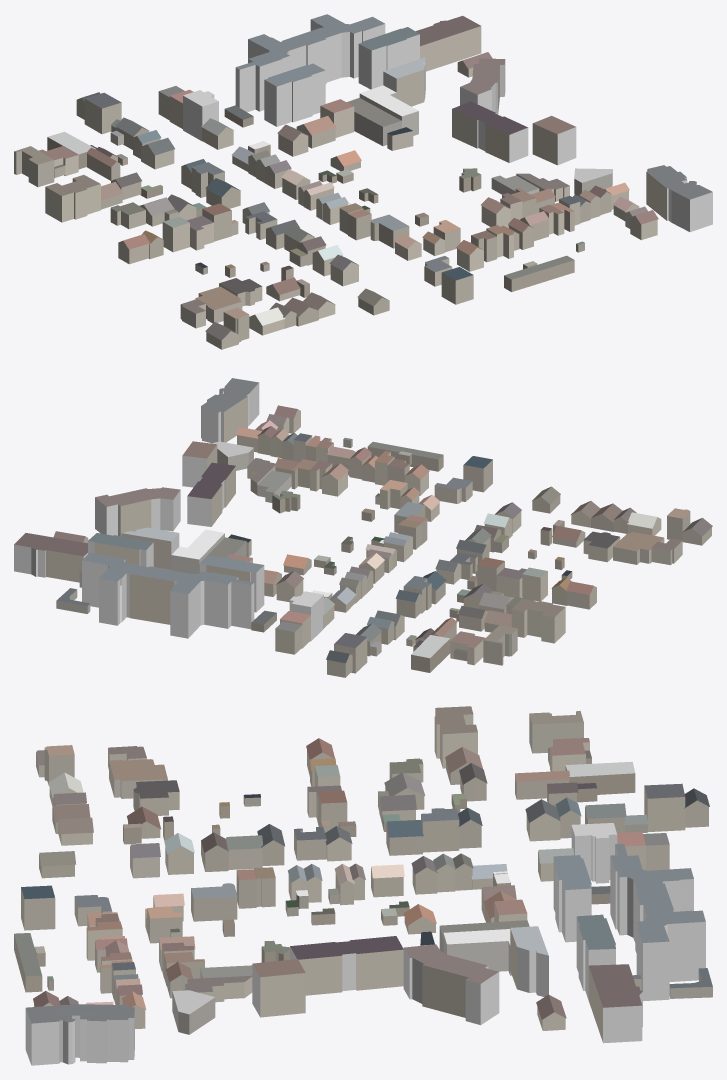
3 views of the same model, one above another, from view 1: azimuth 30°, elevation 25°; view 2: azimuth 150°, elevation 25°; view 3: azimuth 270°, elevation 25° (orthographic). The views are drawn at different scales.
Visible parts, largest first — view 1: tuile; view 2: tuile; view 3: tuile.
Boxes of the visible parts, x1,y1,x2,y2 form: tuile: (14, 14, 712, 349); tuile: (14, 378, 712, 677); tuile: (14, 706, 712, 1065).
Size of the model in its own units: 263 by 33.02 by 248.
